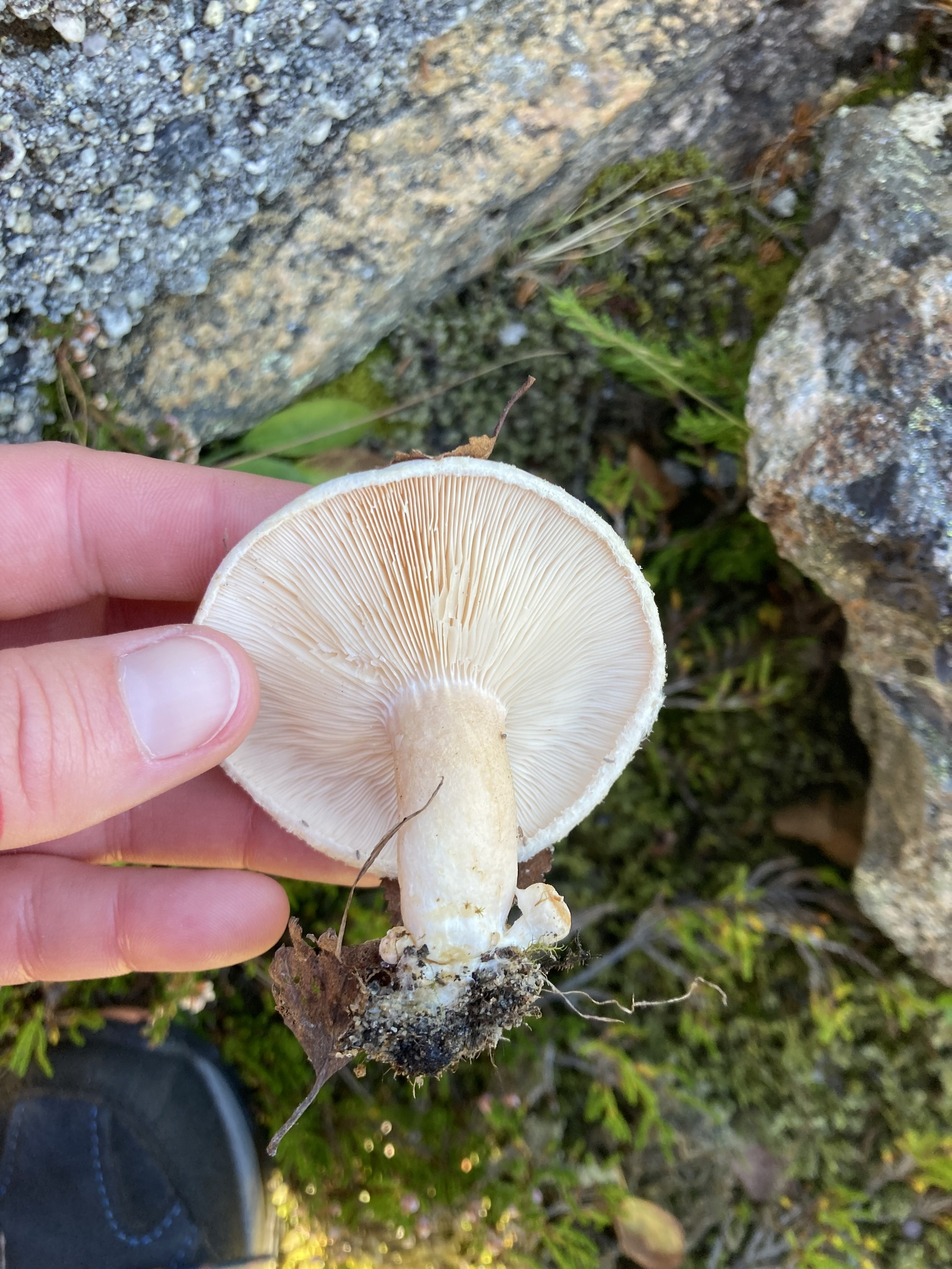Stem: (389, 681, 518, 966)
Underside: (195, 459, 666, 866)
